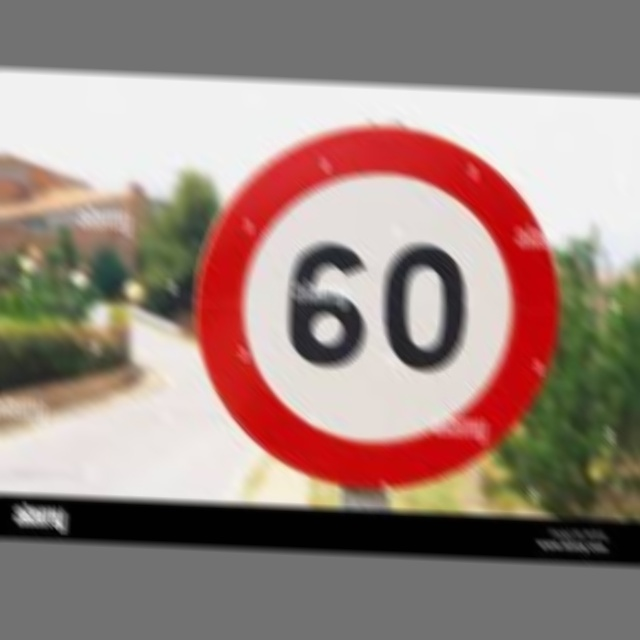Speed_Limit_60: (193, 120, 562, 481)
